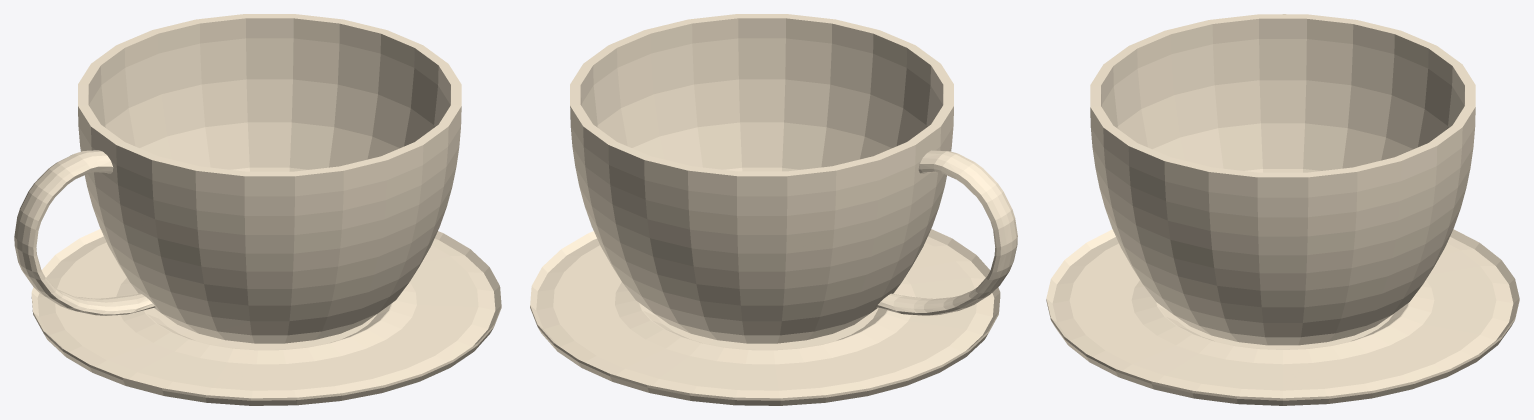
Rendered from Cup empty.fbx.
3 renders of one model, left to right at view 1: azimuth 30°, elevation 25°; view 2: azimuth 150°, elevation 25°; view 3: azimuth 270°, elevation 25°, orthographic.
Parts seen in each view (by area): view 1: Cup, Plate, Handle; view 2: Cup, Plate, Handle; view 3: Cup, Plate.
Boxes of the visible parts, x1=… form: Cup: x1=78, y1=14, x2=461, y2=343; Plate: x1=31, y1=229, x2=501, y2=405; Handle: x1=14, y1=150, x2=155, y2=315; Cup: x1=570, y1=14, x2=953, y2=343; Plate: x1=530, y1=229, x2=1000, y2=405; Handle: x1=876, y1=150, x2=1017, y2=315; Cup: x1=1090, y1=14, x2=1475, y2=345; Plate: x1=1046, y1=229, x2=1519, y2=405.
Bounding box in the file's own units: 443 × 203 × 400.
